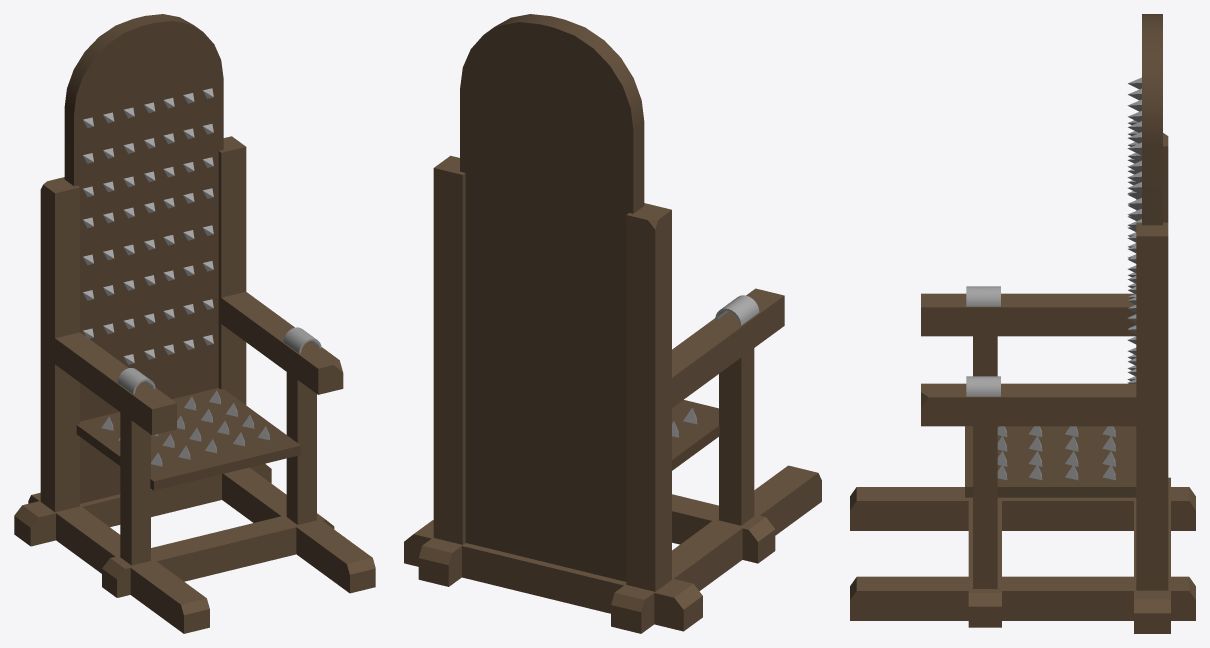
File: IronChair.glb
The picture shows the model from 3 angles, left to right: view 1: azimuth 30°, elevation 25°; view 2: azimuth 150°, elevation 25°; view 3: azimuth 270°, elevation 25°; orthographic projection. The views are drawn at different scales.
Visible parts, largest first — view 1: torture_device_006; view 2: torture_device_006; view 3: torture_device_006.
Part boxes in pixels (x1=…): torture_device_006: x1=14, y1=14, x2=375, y2=633; torture_device_006: x1=404, y1=14, x2=821, y2=633; torture_device_006: x1=850, y1=14, x2=1195, y2=633.
Bounding box in the file's own units: 1.07 × 2.09 × 1.2.
